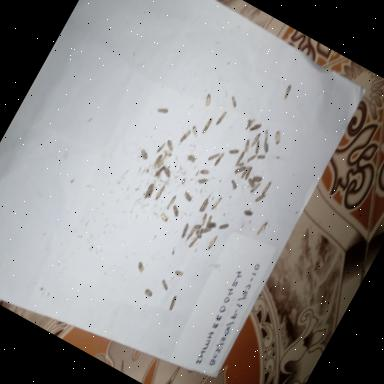pbw: (280, 81, 296, 103), (269, 129, 285, 147), (247, 118, 263, 136), (200, 116, 214, 136), (206, 232, 220, 252), (200, 92, 215, 110), (214, 109, 228, 128), (204, 217, 220, 233), (242, 116, 256, 134), (184, 225, 198, 243), (178, 128, 192, 146), (166, 294, 180, 312), (178, 222, 192, 240), (242, 163, 256, 181), (180, 190, 195, 206), (240, 138, 254, 155), (210, 194, 223, 212), (255, 220, 268, 238), (260, 179, 273, 197), (249, 178, 262, 196), (213, 150, 226, 168), (227, 94, 241, 110), (234, 150, 246, 168), (154, 184, 166, 202), (233, 163, 247, 178), (169, 203, 183, 218), (251, 139, 264, 155), (188, 234, 201, 250), (204, 213, 216, 230), (250, 132, 262, 149), (154, 139, 166, 156), (156, 154, 168, 171), (166, 195, 178, 212), (258, 140, 272, 154), (137, 148, 151, 162), (172, 266, 186, 280), (198, 212, 210, 228), (142, 182, 154, 198), (239, 164, 251, 180), (134, 260, 147, 274), (158, 278, 172, 291), (142, 286, 155, 300), (146, 185, 157, 201), (154, 164, 165, 180), (251, 172, 264, 185), (156, 104, 170, 116), (207, 150, 219, 164), (246, 152, 258, 166), (160, 166, 174, 178), (189, 124, 201, 138), (164, 138, 176, 152), (254, 191, 266, 205), (198, 197, 209, 212), (185, 152, 198, 164), (242, 206, 255, 218), (260, 128, 272, 141), (218, 220, 230, 233), (193, 227, 205, 240), (256, 151, 268, 163), (200, 166, 212, 178), (228, 145, 240, 157), (197, 175, 209, 187), (158, 211, 170, 223), (246, 176, 258, 188), (228, 179, 239, 191), (162, 147, 174, 158), (153, 154, 163, 167), (200, 200, 210, 213), (201, 225, 212, 236), (235, 160, 245, 170), (192, 222, 202, 231)
